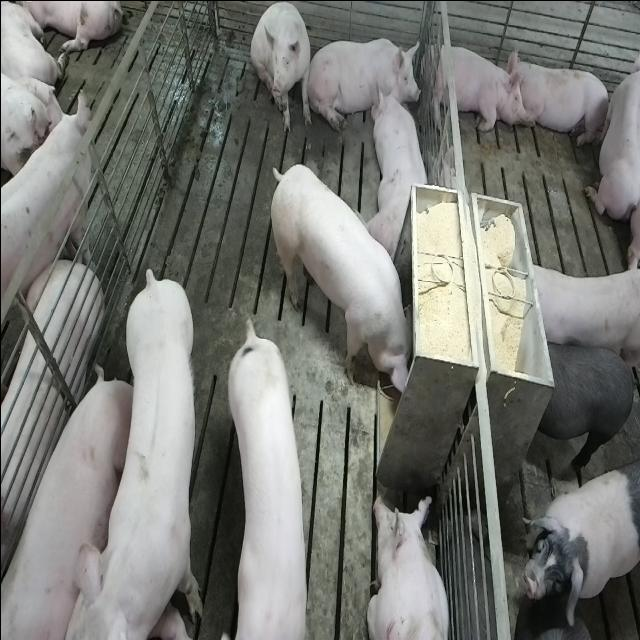Feeding: (265, 161, 411, 393)
Lateral_lying: (0, 370, 127, 640), (0, 258, 100, 593)
Sitting: (250, 1, 312, 135)
Standing: (78, 260, 205, 636), (226, 320, 314, 640), (0, 93, 90, 335), (520, 463, 638, 624), (532, 335, 638, 476), (521, 256, 637, 368)
Sternal_lying: (366, 490, 450, 640), (370, 85, 431, 262), (313, 31, 418, 132), (509, 51, 612, 149), (584, 37, 638, 223), (426, 37, 522, 135)
